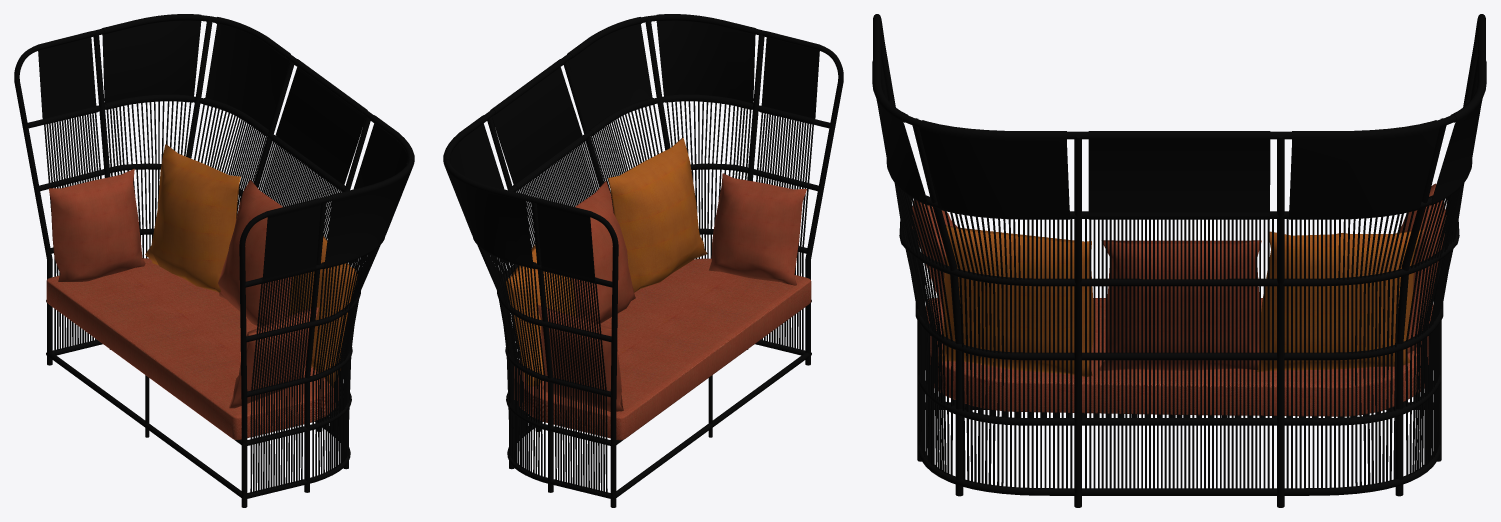
File: metalsofa.FBX
The picture shows the model from 3 angles, left to right: view 1: azimuth 30°, elevation 25°; view 2: azimuth 150°, elevation 25°; view 3: azimuth 270°, elevation 25°; orthographic projection. The views are drawn at different scales.
Visible parts, largest first — view 1: metal_sofa; view 2: metal_sofa; view 3: metal_sofa.
Part boxes in pixels (box(x1,y1,x2,y2)): metal_sofa: box(14, 14, 414, 507); metal_sofa: box(443, 14, 843, 507); metal_sofa: box(872, 14, 1486, 507).
Size of the model in its own units: 3.19 by 4.55 by 6.2.
Materials: 3 (2 with a texture image).
